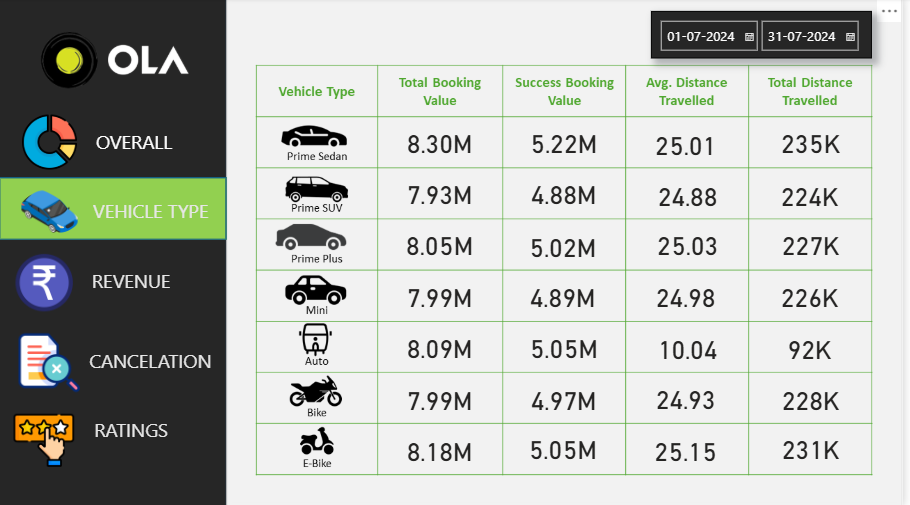

This screenshot's page, from the dashboard's own definition file:
{"tool":"powerbi","page":{"name":"Vehicle Type","canvas":[1280,720],"ordinal":1},"visuals":[{"type":"shape","box":[0,0,322,720],"z":0},{"type":"image","box":[144.6,52.4,134.6,70.9],"z":1000},{"type":"image","box":[0,0,199.8,175.7],"z":2000},{"type":"shape","box":[0,253,322.7,89.4],"z":3000},{"type":"textbox","box":[124.2,180.3,133.3,51.5],"z":4000},{"type":"textbox","box":[124.2,277.3,187.9,51.5],"z":5000},{"type":"textbox","box":[119.7,377.3,136.4,51.5],"z":6000},{"type":"image","box":[15.2,253,112.1,98.5],"z":7000},{"type":"image","box":[15.2,160.6,112.1,87.9],"z":8000},{"type":"image","box":[15.2,353,97,100],"z":9000},{"type":"image","box":[22.7,466.7,97,100],"z":10000},{"type":"textbox","box":[118.2,490.9,193.9,51.5],"z":11000},{"type":"image","box":[15.6,576.9,96.4,99.2],"z":12000},{"type":"textbox","box":[119.7,587.9,136.4,50],"z":13000},{"type":"actionButton","box":[0,160.6,322.7,89.4],"z":14000},{"type":"actionButton","box":[0,357.6,322.7,89.4],"z":15000},{"type":"actionButton","box":[0,472.7,322.7,89.4],"z":16000},{"type":"actionButton","box":[0,568.2,322.7,89.4],"z":17000},{"type":"image","box":[322.5,0,957.5,719.6],"z":18000},{"type":"card","fields":{"Values":["Sum(July.Booking_Value)"]},"box":[537.5,167.7,174.9,73.1],"z":19000},{"type":"card","fields":{"Values":["Sum(July.Booking_Value)"]},"box":[536.7,240.1,174.8,72.4],"z":20000},{"type":"card","fields":{"Values":["Sum(July.Booking_Value)"]},"box":[536.7,312.5,174.8,72.4],"z":21000},{"type":"card","fields":{"Values":["Sum(July.Booking_Value)"]},"box":[536.7,384.9,174.8,72.4],"z":22000},{"type":"card","fields":{"Values":["Sum(July.Booking_Value)"]},"box":[536.7,457.3,174.8,72.4],"z":23000},{"type":"card","fields":{"Values":["Sum(July.Booking_Value)"]},"box":[536.7,531.4,174.8,72.4],"z":24000},{"type":"card","fields":{"Values":["Sum(July.Booking_Value)"]},"box":[536.7,603.8,174.8,72.4],"z":25000},{"type":"card","fields":{"Values":["Sum(July.Booking_Value)"]},"box":[713.3,167.7,174.8,72.4],"z":26000},{"type":"card","fields":{"Values":["Sum(July.Booking_Value)"]},"box":[713.3,240.1,174.8,72.4],"z":27000},{"type":"card","fields":{"Values":["Sum(July.Booking_Value)"]},"box":[711.5,314.3,174.8,72.4],"z":28000},{"type":"card","fields":{"Values":["Sum(July.Booking_Value)"]},"box":[711.5,384.9,174.8,72.4],"z":29000},{"type":"card","fields":{"Values":["Sum(July.Booking_Value)"]},"box":[713.3,457.3,174.8,72.4],"z":30000},{"type":"card","fields":{"Values":["Sum(July.Booking_Value)"]},"box":[713.3,531.4,174.8,72.4],"z":31000},{"type":"card","fields":{"Values":["Sum(July.Booking_Value)"]},"box":[711.5,600.3,174.8,72.4],"z":32000},{"type":"card","fields":{"Values":["Avg(July.Ride_Distance)"]},"box":[886.3,169.5,174.8,72.4],"z":33000},{"type":"card","fields":{"Values":["Avg(July.Ride_Distance)"]},"box":[888.1,241.9,174.8,72.4],"z":34000},{"type":"card","fields":{"Values":["Avg(July.Ride_Distance)"]},"box":[888.1,312.5,174.8,72.4],"z":35000},{"type":"card","fields":{"Values":["Avg(July.Ride_Distance)"]},"box":[886.3,384.9,174.8,72.4],"z":36000},{"type":"card","fields":{"Values":["Avg(July.Ride_Distance)"]},"box":[888.1,459,174.8,72.4],"z":37000},{"type":"card","fields":{"Values":["Avg(July.Ride_Distance)"]},"box":[886.3,529.7,174.8,72.4],"z":38000},{"type":"card","fields":{"Values":["Avg(July.Ride_Distance)"]},"box":[886.3,603.8,174.8,72.4],"z":39000},{"type":"card","fields":{"Values":["Sum(July.Ride_Distance)"]},"box":[1062.8,167.7,174.8,72.4],"z":40000},{"type":"card","fields":{"Values":["Sum(July.Ride_Distance)"]},"box":[1061.1,241.9,174.8,72.4],"z":41000},{"type":"card","fields":{"Values":["Sum(July.Ride_Distance)"]},"box":[1062.8,312.5,174.8,72.4],"z":42000},{"type":"card","fields":{"Values":["Sum(July.Ride_Distance)"]},"box":[1061.1,384.9,174.8,72.4],"z":43000},{"type":"card","fields":{"Values":["Sum(July.Ride_Distance)"]},"box":[1061.1,459,174.8,72.4],"z":44000},{"type":"card","fields":{"Values":["Sum(July.Ride_Distance)"]},"box":[1062.8,531.4,174.8,72.4],"z":45000},{"type":"card","fields":{"Values":["Sum(July.Ride_Distance)"]},"box":[1062.8,600.3,174.8,72.4],"z":46000},{"type":"slicer","fields":{"Values":["July.Date"]},"box":[924.6,18,313.1,67.2],"z":47000}]}

Visuals, with their boxes in screenshot pixels (x1, y1, x2, y2), scaled from the page's 1280x720 canvas onto the 910x505 screenshot:
shape: locate(0, 0, 229, 504)
image: locate(103, 37, 198, 86)
image: locate(0, 0, 142, 123)
shape: locate(0, 177, 229, 240)
textbox: locate(88, 126, 183, 163)
textbox: locate(88, 194, 222, 231)
textbox: locate(85, 265, 182, 301)
image: locate(11, 177, 91, 247)
image: locate(11, 113, 91, 174)
image: locate(11, 248, 80, 318)
image: locate(16, 327, 85, 397)
textbox: locate(84, 344, 222, 380)
image: locate(11, 405, 80, 474)
textbox: locate(85, 412, 182, 447)
actionButton: locate(0, 113, 229, 175)
actionButton: locate(0, 251, 229, 314)
actionButton: locate(0, 332, 229, 394)
actionButton: locate(0, 399, 229, 461)
image: locate(229, 0, 909, 504)
card - Sum(July.Booking_Value): locate(382, 118, 506, 169)
card - Sum(July.Booking_Value): locate(382, 168, 506, 219)
card - Sum(July.Booking_Value): locate(382, 219, 506, 270)
card - Sum(July.Booking_Value): locate(382, 270, 506, 321)
card - Sum(July.Booking_Value): locate(382, 321, 506, 372)
card - Sum(July.Booking_Value): locate(382, 373, 506, 423)
card - Sum(July.Booking_Value): locate(382, 423, 506, 474)
card - Sum(July.Booking_Value): locate(507, 118, 631, 168)
card - Sum(July.Booking_Value): locate(507, 168, 631, 219)
card - Sum(July.Booking_Value): locate(506, 220, 630, 271)
card - Sum(July.Booking_Value): locate(506, 270, 630, 321)
card - Sum(July.Booking_Value): locate(507, 321, 631, 372)
card - Sum(July.Booking_Value): locate(507, 373, 631, 423)
card - Sum(July.Booking_Value): locate(506, 421, 630, 472)
card - Avg(July.Ride_Distance): locate(630, 119, 754, 170)
card - Avg(July.Ride_Distance): locate(631, 170, 756, 220)
card - Avg(July.Ride_Distance): locate(631, 219, 756, 270)
card - Avg(July.Ride_Distance): locate(630, 270, 754, 321)
card - Avg(July.Ride_Distance): locate(631, 322, 756, 373)
card - Avg(July.Ride_Distance): locate(630, 372, 754, 422)
card - Avg(July.Ride_Distance): locate(630, 423, 754, 474)
card - Sum(July.Ride_Distance): locate(756, 118, 880, 168)
card - Sum(July.Ride_Distance): locate(754, 170, 879, 220)
card - Sum(July.Ride_Distance): locate(756, 219, 880, 270)
card - Sum(July.Ride_Distance): locate(754, 270, 879, 321)
card - Sum(July.Ride_Distance): locate(754, 322, 879, 373)
card - Sum(July.Ride_Distance): locate(756, 373, 880, 423)
card - Sum(July.Ride_Distance): locate(756, 421, 880, 472)
slicer - July.Date: locate(657, 13, 880, 60)
